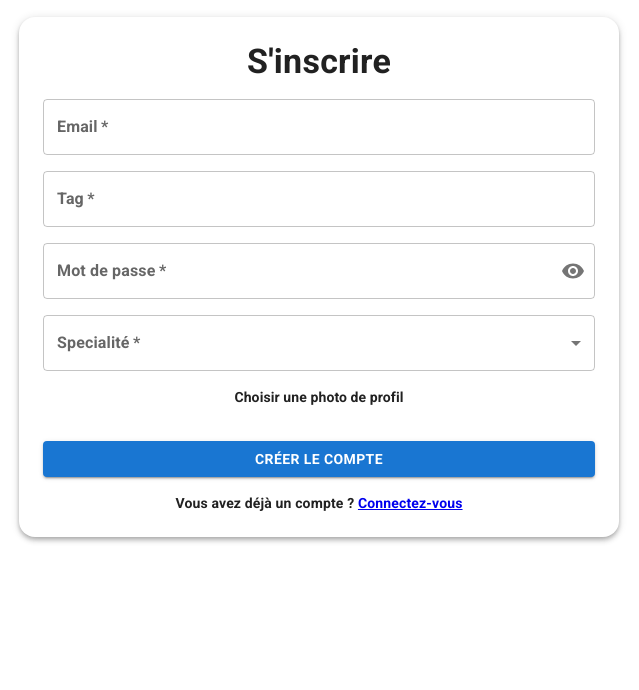
Test: RegisterPage › shows an error and does not submit when no specialty is selected
The width and height of the screenshot is (639, 690).
Type "lea@mail.com" into the field labelled "Email *" at (319, 127), box x1=43 y1=99 x2=595 y2=155
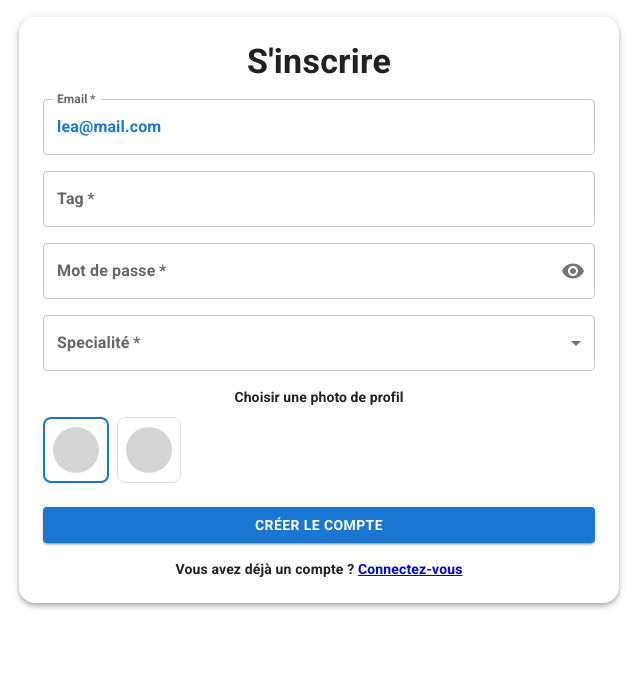
Type "lea" into the field labelled "Tag *" at (319, 199), box x1=43 y1=171 x2=595 y2=227
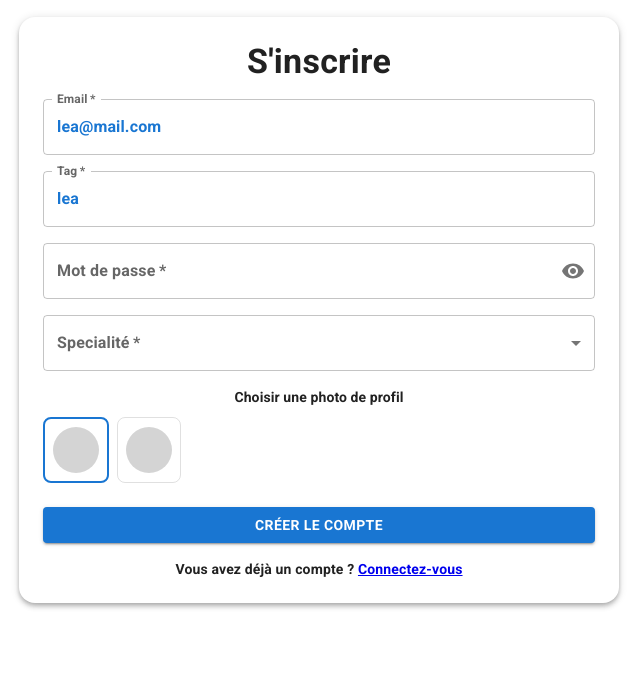
Type "Password123" into the password field labelled "Mot de passe *" at (294, 271), box x1=43 y1=243 x2=545 y2=299
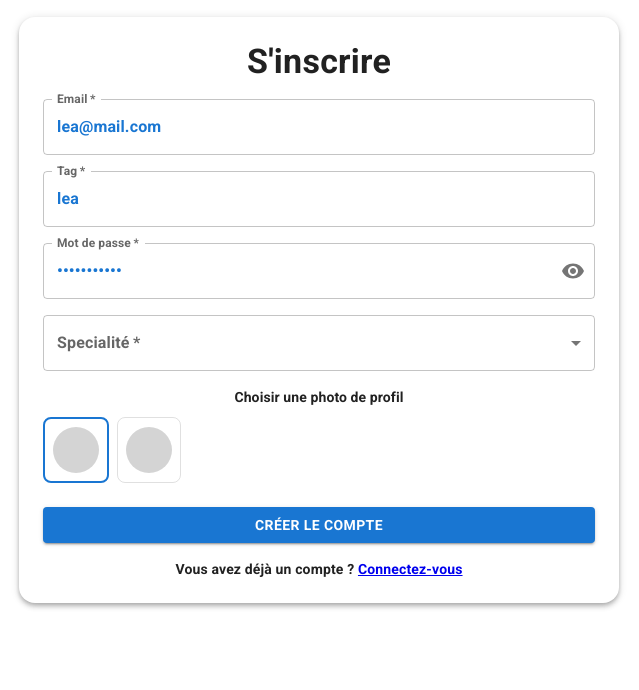
Submit the form, box x1=43 y1=99 x2=595 y2=544
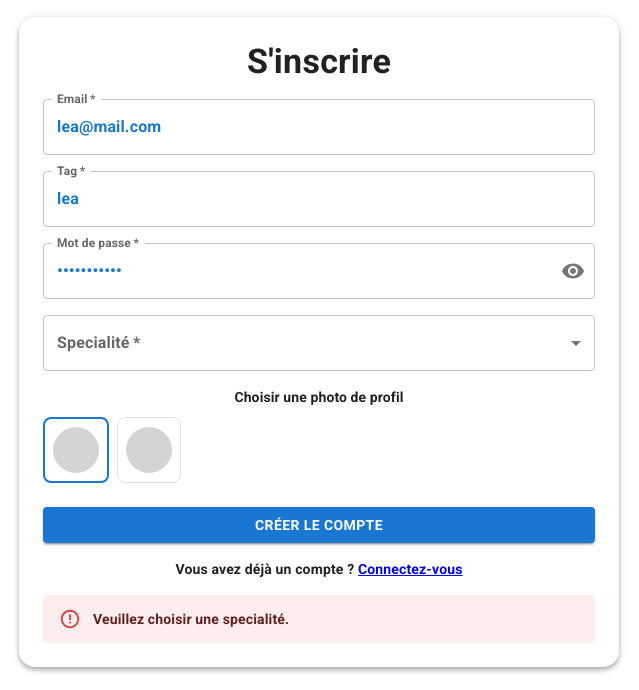
Check: the text "Veuillez choisir une specialité." is shown, box x1=93 y1=612 x2=289 y2=628
